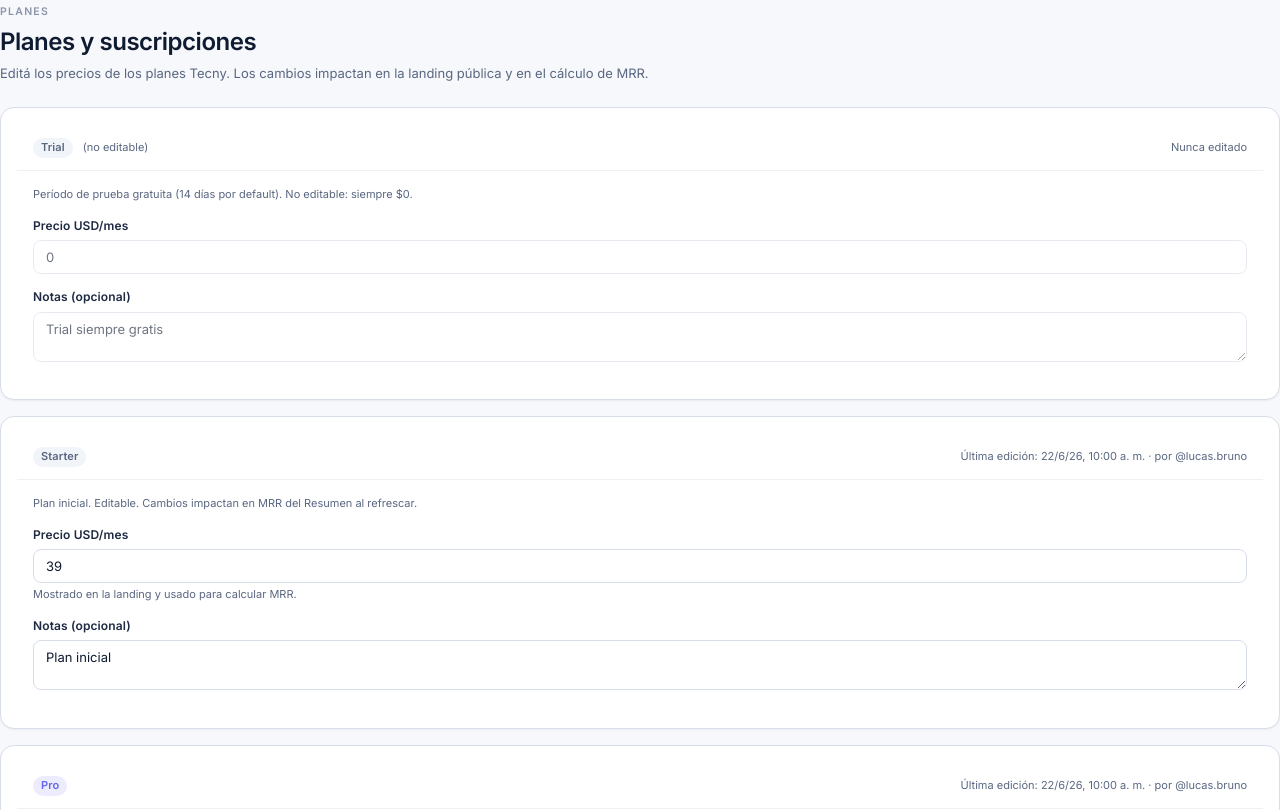
Test: Planes › después de un save exitoso, un segundo save funciona (submitting se resetea)
// Primer save: starter 39 → 49.
Replace the text in the number field named "Precio del plan starter" with "49": (640, 566) [33,549,1247,583]
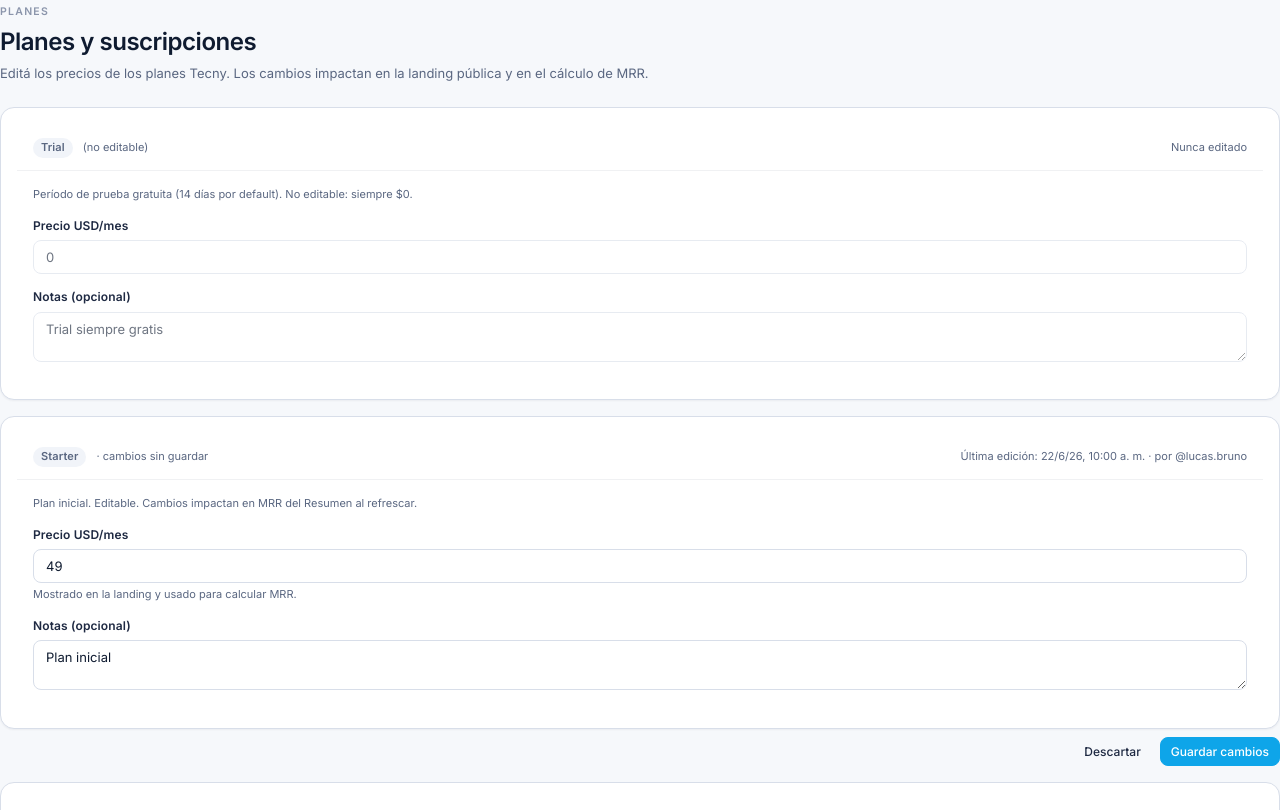
Click the button "Guardar cambios": (1220, 751) [1160,737,1279,766]
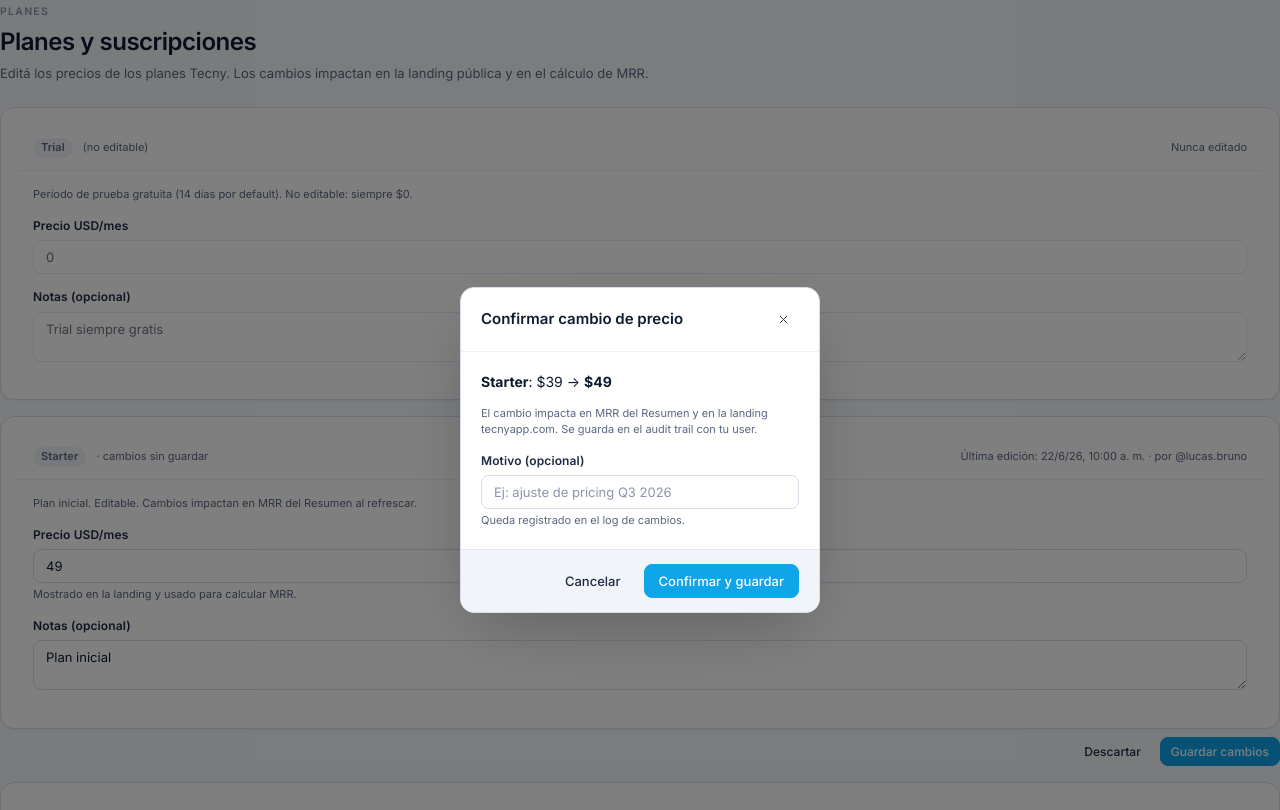
Click the button "Confirmar y guardar": (721, 581) [644,564,799,598]
(page scrolled)
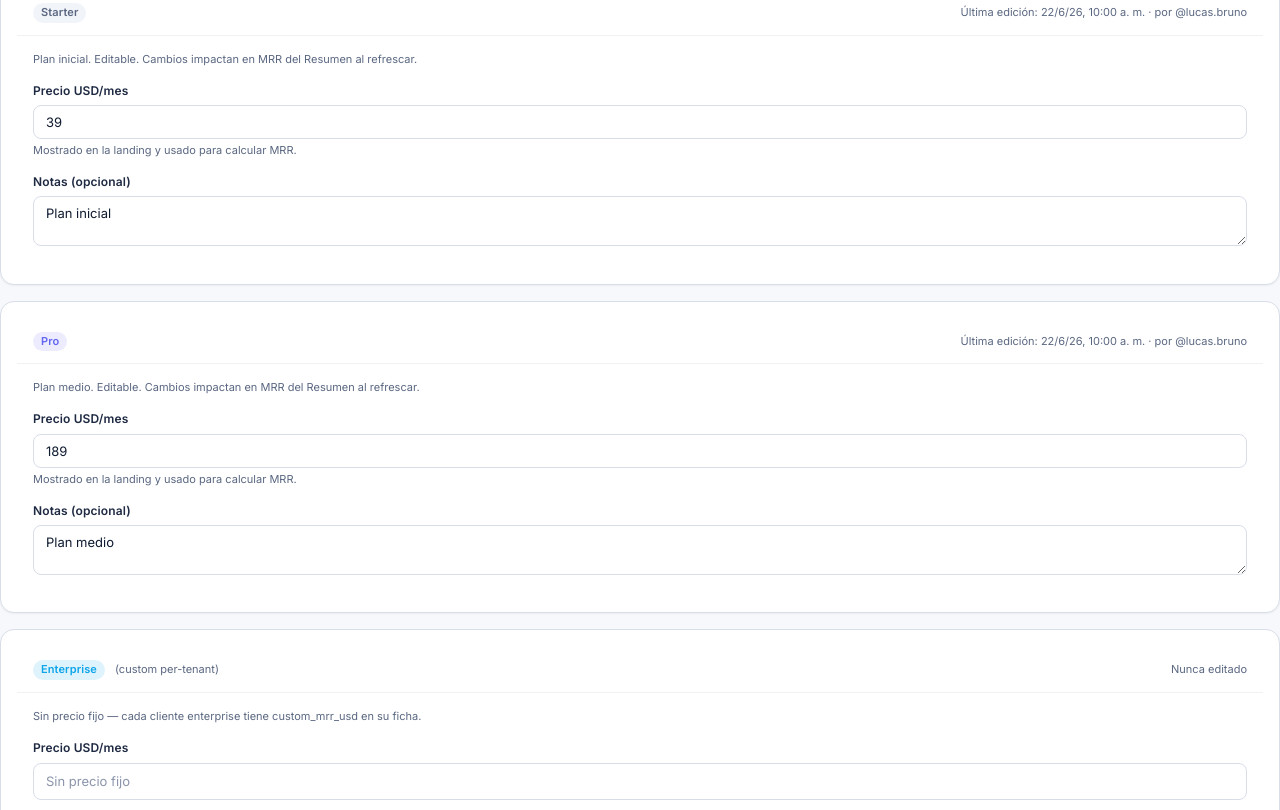
Replace the text in the number field named "Precio del plan pro" with "199": (640, 451) [33,434,1247,468]
(page scrolled)
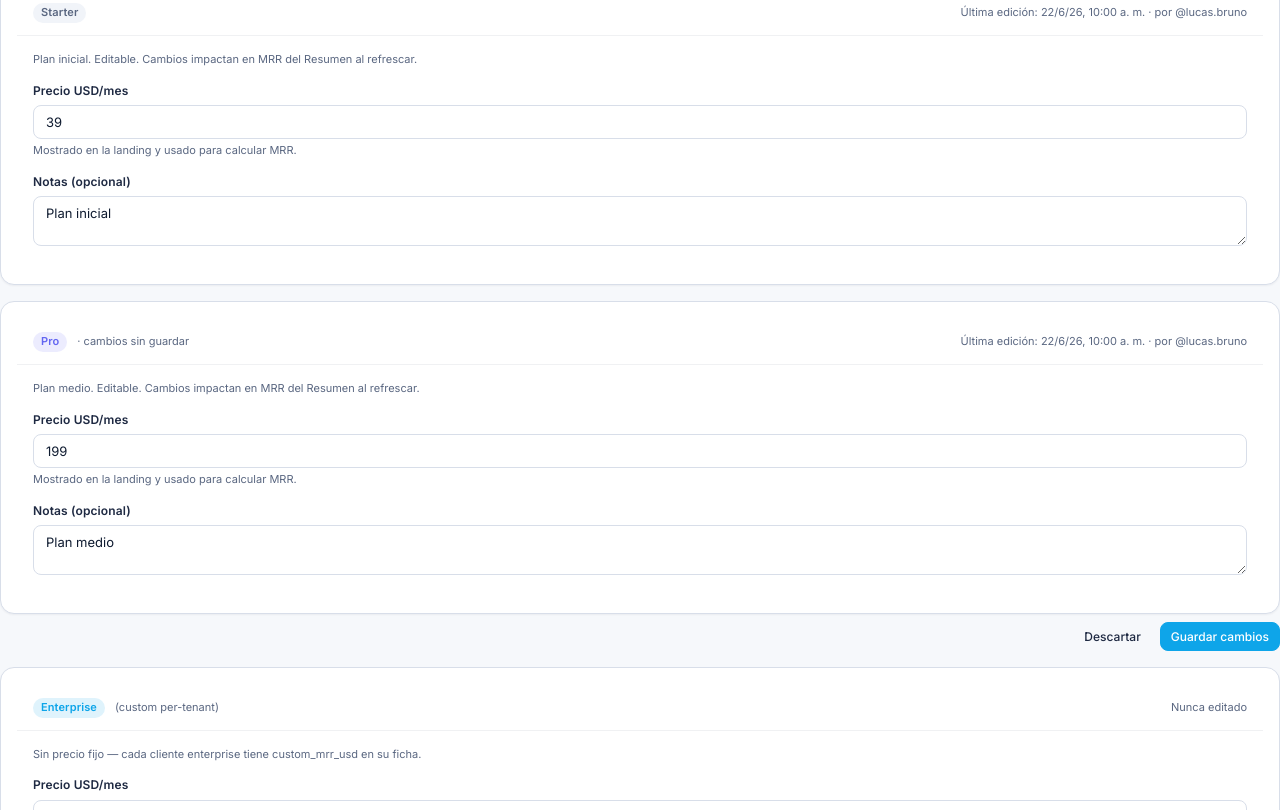
Click the button "Guardar cambios": (1220, 636) [1160,622,1279,651]
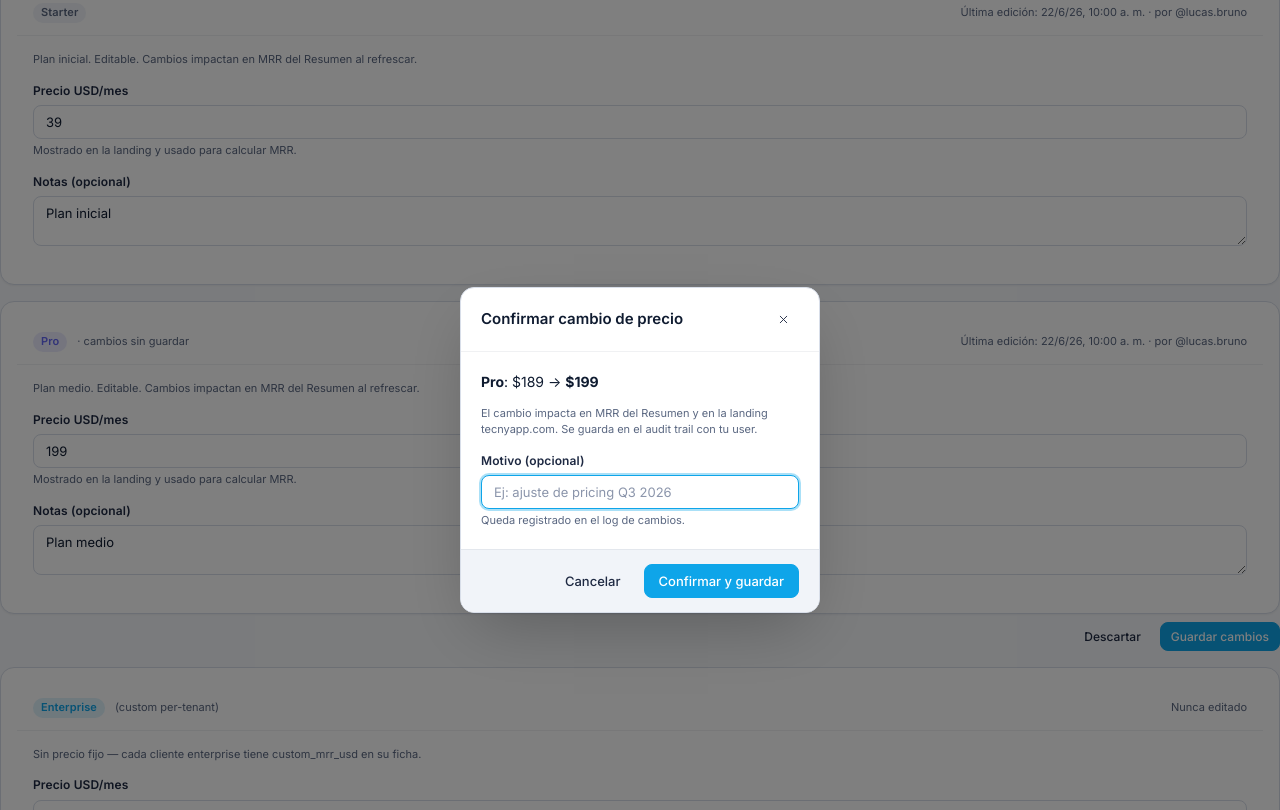
Expected: the button "Confirmar y guardar" is enabled, [644,564,799,598]
